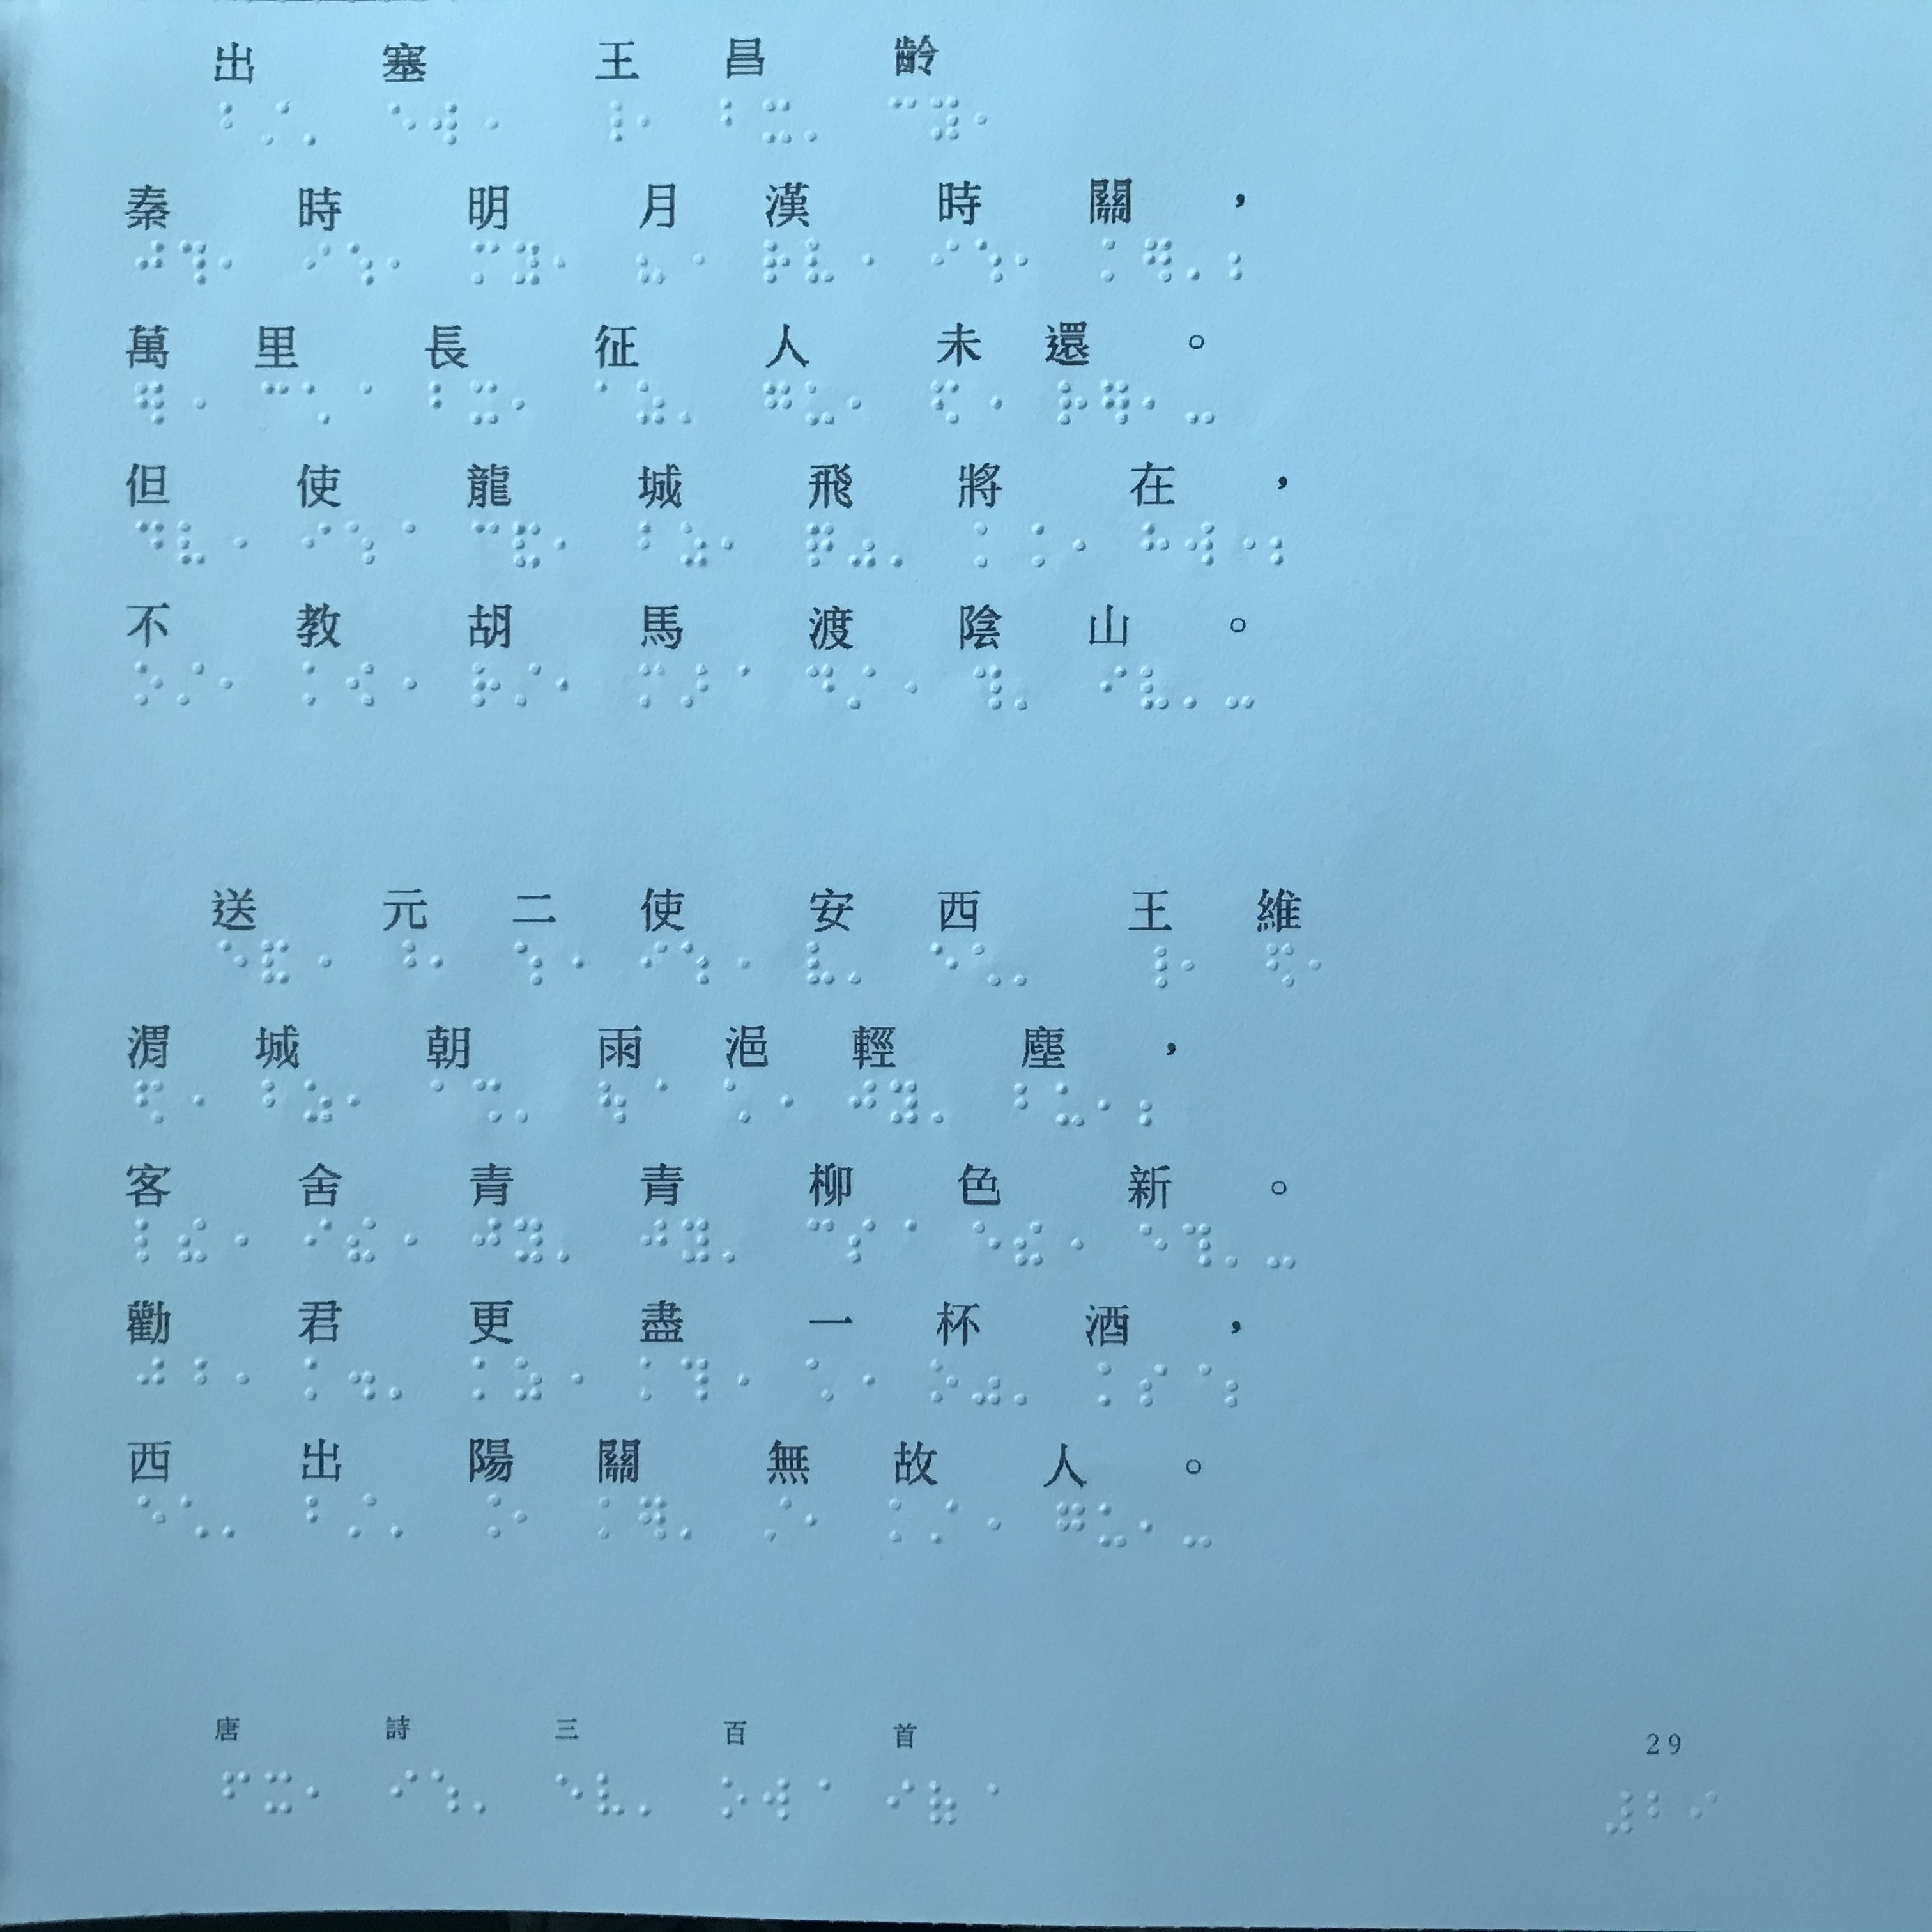Braille: (803, 237, 835, 288), (1603, 1787, 1635, 1838), (1014, 1217, 1044, 1270), (347, 1215, 379, 1265), (846, 1215, 878, 1265), (136, 656, 165, 711), (1143, 234, 1173, 285), (763, 377, 793, 428), (803, 379, 833, 430), (177, 517, 207, 568), (347, 656, 377, 708), (179, 1214, 209, 1265), (515, 1215, 545, 1267), (681, 1215, 711, 1267), (471, 1490, 501, 1541), (929, 1778, 959, 1829), (136, 375, 165, 428), (973, 1357, 1001, 1410), (635, 379, 665, 428), (931, 379, 961, 428), (678, 520, 708, 570), (471, 662, 501, 711), (681, 662, 711, 711), (260, 938, 290, 987), (474, 1076, 504, 1125), (1095, 1359, 1125, 1408), (637, 1493, 667, 1543), (1056, 1502, 1086, 1552), (1688, 1783, 1718, 1833), (347, 517, 375, 568), (513, 518, 541, 570), (1184, 1502, 1212, 1553), (929, 235, 959, 283), (1058, 382, 1088, 430), (807, 522, 837, 570), (973, 663, 1003, 711), (1224, 663, 1254, 711), (1265, 943, 1295, 991), (513, 1355, 543, 1403), (262, 99, 290, 149), (180, 237, 209, 287), (977, 237, 1005, 287), (1141, 520, 1169, 570), (513, 660, 541, 709), (807, 662, 835, 711), (1141, 663, 1169, 713), (136, 1077, 165, 1127), (1184, 1221, 1212, 1270), (347, 1355, 375, 1405), (1138, 1359, 1166, 1408), (1099, 1502, 1127, 1552), (1647, 1785, 1675, 1835), (469, 382, 499, 428), (471, 1217, 501, 1263), (133, 1355, 163, 1401), (349, 1493, 379, 1539), (932, 92, 959, 143), (1058, 1221, 1085, 1272), (432, 99, 460, 147), (136, 237, 165, 285), (1099, 235, 1127, 283), (136, 517, 165, 564), (973, 520, 1001, 568), (177, 660, 205, 708), (554, 662, 582, 709), (639, 662, 667, 709), (304, 1077, 333, 1125), (890, 1079, 918, 1127), (1056, 1081, 1085, 1129), (1139, 1081, 1168, 1129), (807, 1215, 835, 1263), (681, 1357, 709, 1405), (931, 1357, 959, 1405), (635, 242, 665, 287), (594, 97, 621, 147), (718, 94, 745, 143), (764, 237, 791, 287), (849, 524, 876, 573), (1187, 518, 1214, 568), (391, 660, 418, 709), (260, 379, 288, 425), (301, 380, 329, 426), (303, 520, 331, 566), (472, 518, 501, 564), (681, 939, 709, 985), (931, 941, 959, 987), (1267, 1224, 1295, 1270), (1224, 1362, 1253, 1408), (764, 1497, 793, 1543), (432, 1769, 460, 1815), (720, 1776, 748, 1822), (389, 101, 416, 149), (764, 97, 791, 145), (515, 239, 541, 287), (1016, 237, 1042, 285), (1104, 379, 1131, 426), (1272, 518, 1299, 566), (515, 941, 541, 989), (640, 938, 667, 985), (1097, 1081, 1123, 1129), (391, 1219, 418, 1267), (973, 1219, 1000, 1267), (1139, 1221, 1166, 1269), (304, 1355, 331, 1403), (1185, 1361, 1212, 1408), (138, 1493, 165, 1541), (892, 1497, 918, 1545), (1139, 1502, 1166, 1550), (265, 1769, 292, 1817), (888, 1778, 915, 1826), (637, 520, 665, 564), (807, 941, 835, 985), (304, 1217, 333, 1261), (639, 1357, 667, 1401), (931, 1499, 959, 1543), (472, 239, 499, 285), (1230, 237, 1256, 283), (1230, 520, 1256, 566), (304, 660, 331, 706), (724, 662, 750, 708), (849, 663, 876, 709), (1100, 663, 1127, 709), (600, 1079, 626, 1125), (640, 1215, 667, 1261), (1226, 1224, 1253, 1270), (225, 1355, 251, 1401), (809, 1357, 835, 1403), (180, 1495, 207, 1541), (306, 1493, 333, 1539), (975, 1500, 1001, 1546), (764, 1776, 791, 1822), (1187, 384, 1215, 426), (262, 1079, 290, 1122), (219, 97, 244, 145), (349, 241, 373, 288), (1023, 522, 1047, 570), (180, 1081, 205, 1129), (432, 1076, 456, 1123), (136, 1217, 161, 1265), (892, 1215, 916, 1263), (225, 1215, 248, 1267), (301, 103, 327, 147), (681, 382, 708, 426), (389, 518, 416, 563), (892, 525, 918, 570), (1141, 945, 1168, 989), (849, 1079, 876, 1123), (1016, 1081, 1042, 1125), (180, 1353, 207, 1398), (221, 1766, 248, 1810), (973, 1782, 1000, 1826), (474, 99, 499, 145), (304, 239, 329, 285), (554, 241, 579, 287), (180, 379, 205, 425), (513, 382, 538, 428), (554, 520, 579, 566), (720, 520, 745, 566), (221, 658, 244, 708), (221, 936, 246, 982), (973, 943, 998, 989), (1307, 943, 1332, 989), (349, 1077, 373, 1123), (727, 1079, 752, 1125), (474, 1355, 499, 1401), (724, 1359, 748, 1405), (1014, 1361, 1039, 1407), (513, 1495, 538, 1541), (389, 1769, 416, 1812), (598, 1775, 625, 1817), (221, 237, 244, 285), (1184, 663, 1207, 711), (890, 94, 915, 138), (892, 665, 916, 709), (1180, 945, 1205, 989), (430, 382, 456, 423), (389, 938, 416, 978), (642, 1079, 669, 1120), (557, 1773, 584, 1813), (975, 97, 998, 143), (851, 239, 874, 285), (849, 380, 872, 426), (1141, 379, 1164, 425), (347, 382, 372, 425), (978, 382, 1003, 425), (846, 943, 870, 985), (768, 1081, 793, 1123), (557, 1221, 582, 1263), (724, 1221, 748, 1263), (557, 1359, 582, 1401), (637, 99, 660, 143), (1187, 239, 1210, 283), (308, 941, 331, 985), (430, 938, 453, 982), (851, 1359, 874, 1403), (600, 1495, 623, 1539), (678, 1497, 701, 1541), (306, 1771, 329, 1815), (596, 382, 621, 423), (389, 1361, 414, 1401), (221, 1499, 246, 1539), (391, 1497, 416, 1537), (472, 1773, 497, 1813), (681, 242, 704, 285), (223, 522, 246, 564), (1063, 522, 1085, 568), (1014, 667, 1037, 709), (559, 943, 582, 985), (727, 941, 750, 984), (515, 1081, 538, 1123), (931, 1081, 954, 1123), (807, 1500, 830, 1543), (639, 1778, 662, 1819), (807, 101, 828, 143), (1016, 943, 1037, 985), (387, 241, 407, 287), (807, 1780, 830, 1819)
